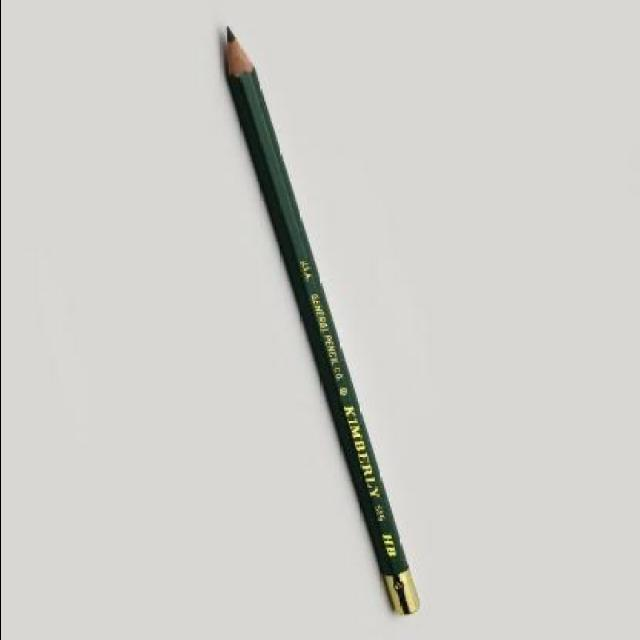pencil: (210, 18, 266, 96)
